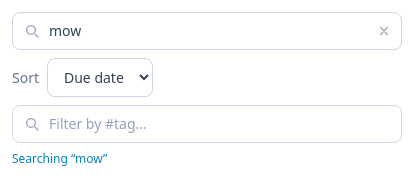
it: FamilyTaskFilterBar › clears the search via ×
The width and height of the screenshot is (414, 183).
Step 1. Click the button named "Clear search" → (384, 31), box [374,21,394,41]
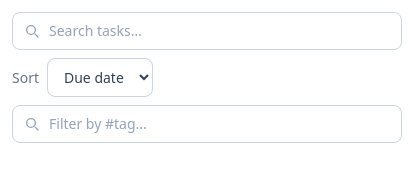
Expected: the text "Searching" is gone
